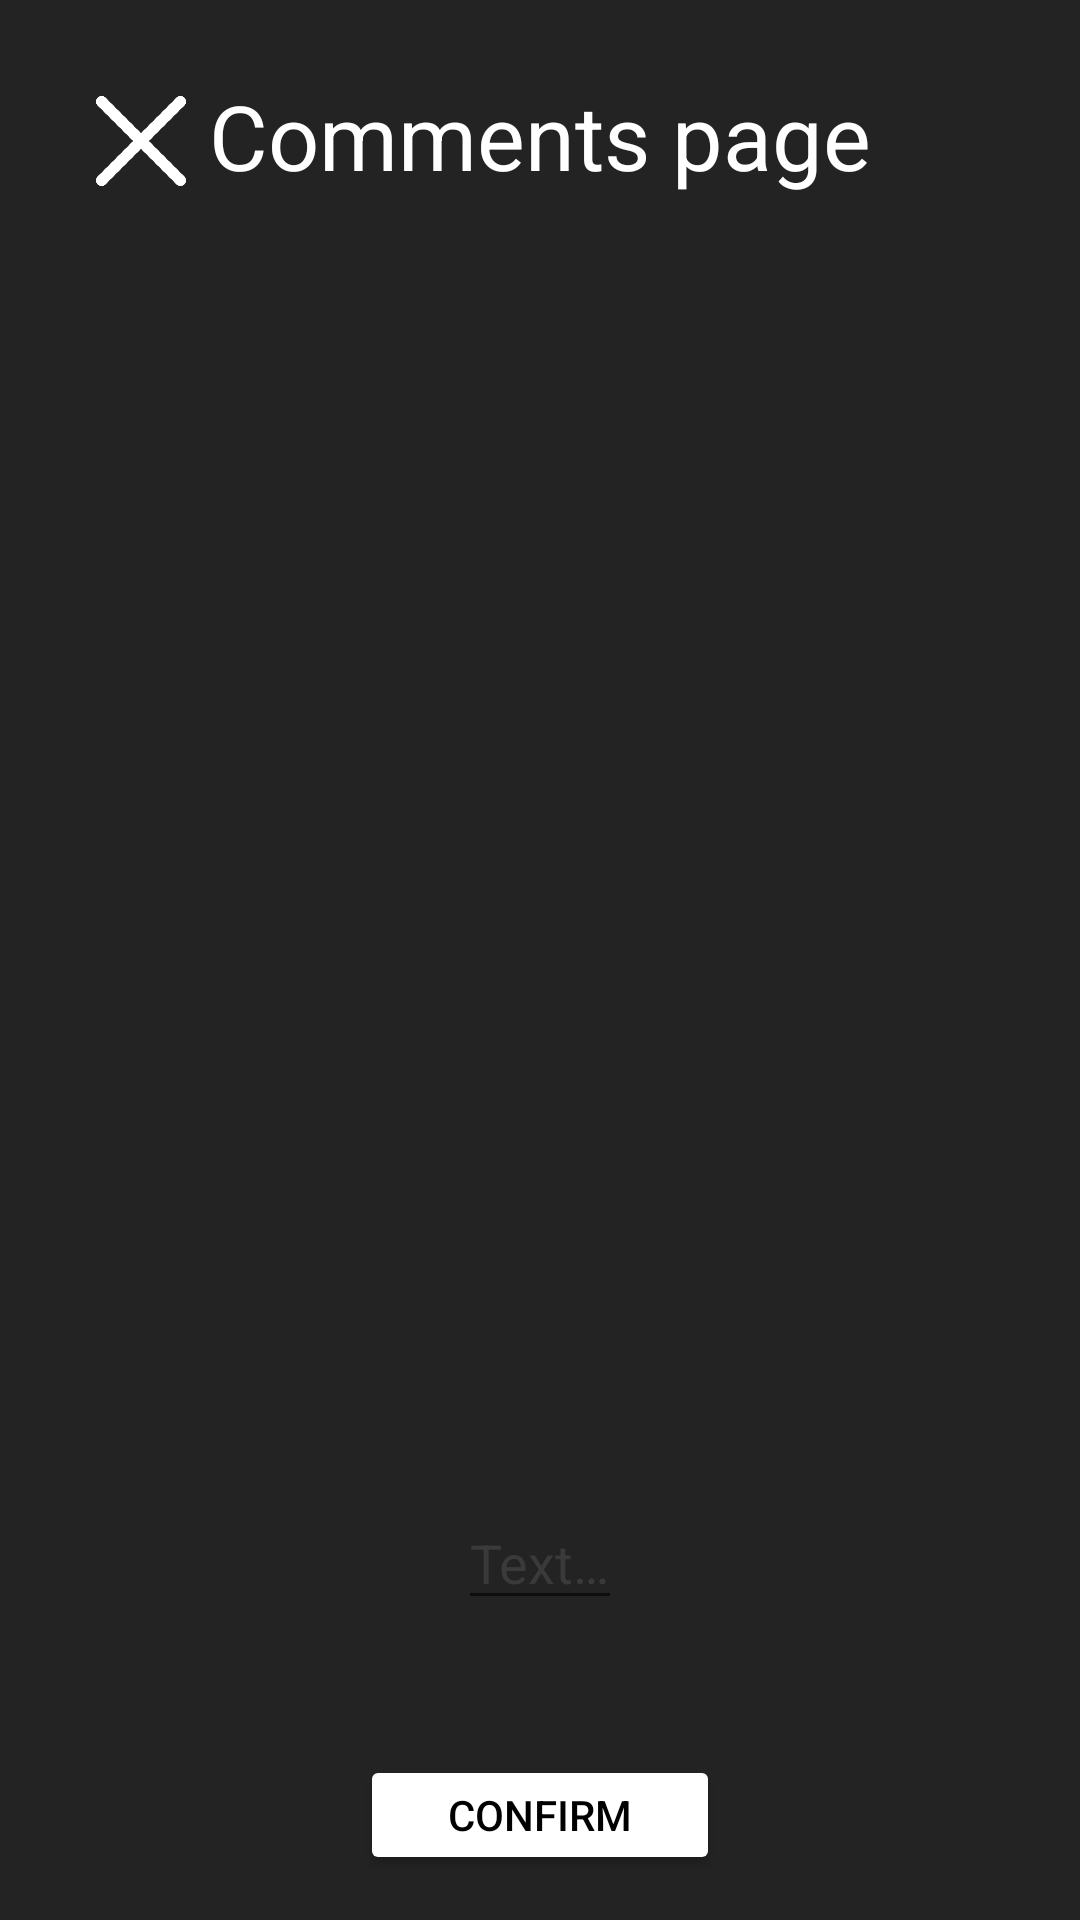

Point at icon controls on the screen. Image size 1080x1920, points as (x,y).
back: (141,141)
